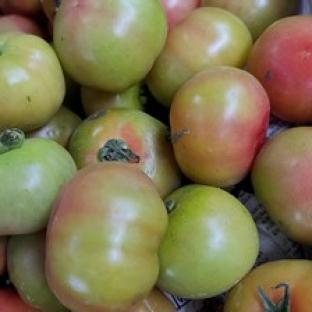Tomato: (46, 162, 167, 311), (170, 66, 270, 186), (158, 184, 259, 299), (147, 7, 252, 107), (69, 109, 181, 196), (0, 130, 76, 235), (251, 126, 311, 245), (247, 16, 311, 123), (0, 31, 65, 130), (7, 230, 68, 311), (225, 260, 311, 311), (26, 105, 82, 147), (80, 84, 144, 115), (129, 287, 176, 311), (0, 14, 45, 38), (0, 287, 43, 311), (0, 236, 8, 277)
